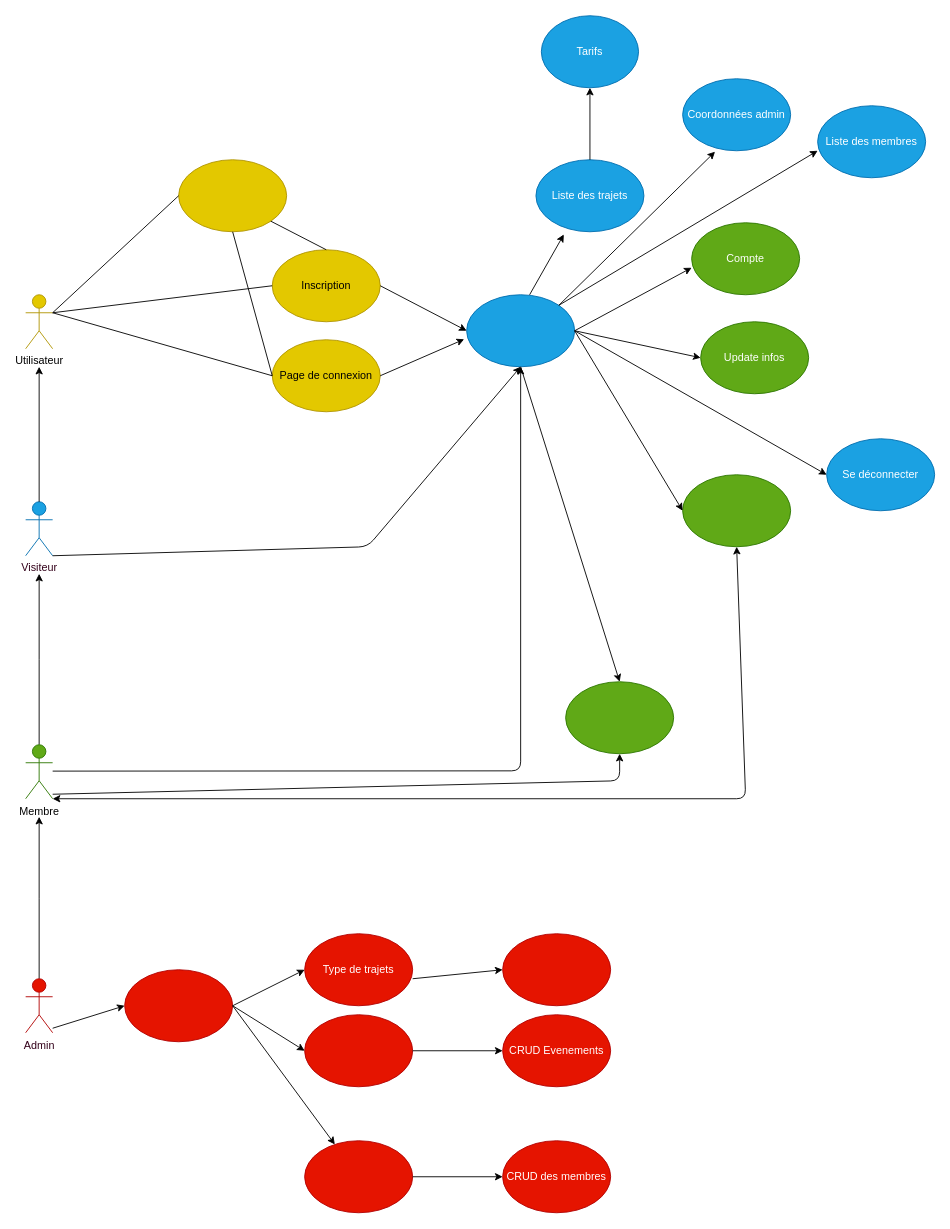
Some shapes in this 950 by 1229 pixel diagram are drawn without their labels. The shapes that lost their labels are listed below. From the top down, each one's box as (x1, y1, x2, y2) in pixels, then its label:
(178, 159, 287, 232): Page d'acceuil
(466, 294, 575, 367): Se connecter
(682, 474, 791, 547): Contacter / Commanter / Evaluer
(565, 681, 674, 754): S'incrire pour un trajet
(502, 933, 611, 1006): CRUD type de trajets
(124, 969, 233, 1042): Dashbord
(304, 1014, 413, 1087): Evenements
(304, 1140, 413, 1213): Liste membres
